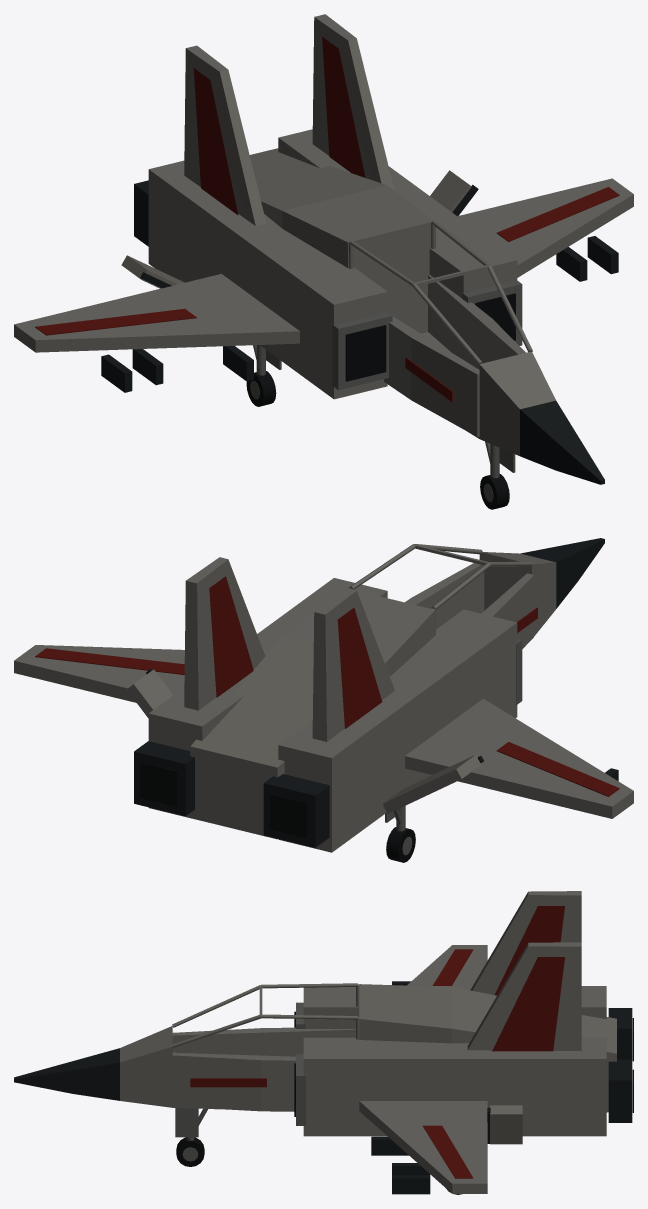
3 renders of one model, top to bottom at view 1: azimuth 30°, elevation 25°; view 2: azimuth 150°, elevation 25°; view 3: azimuth 270°, elevation 25°, orthographic. The views are drawn at different scales.
Parts seen in each view (by area): view 1: jet-b-painted, flap-right-painted, flap-left-painted, gear-wheel-nose-0-0-painted, gear-wheel-left-0-0-painted, landing-gear-nose-painted; view 2: jet-b-painted, flap-left-painted, flap-right-painted, gear-wheel-left-0-0-painted; view 3: jet-b-painted, flap-right-painted, landing-gear-nose-painted, gear-wheel-nose-0-0-painted.
Part boxes in pixels (x1,y1,x2,y2): jet-b-painted: [14, 14, 633, 484]; flap-right-painted: [430, 170, 478, 216]; flap-left-painted: [121, 255, 184, 288]; gear-wheel-nose-0-0-painted: [480, 474, 509, 509]; gear-wheel-left-0-0-painted: [246, 371, 276, 406]; landing-gear-nose-painted: [485, 441, 515, 478]; jet-b-painted: [14, 538, 633, 852]; flap-left-painted: [383, 754, 483, 813]; flap-right-painted: [126, 668, 173, 718]; gear-wheel-left-0-0-painted: [386, 827, 415, 862]; jet-b-painted: [14, 891, 633, 1194]; flap-right-painted: [487, 1105, 522, 1144]; landing-gear-nose-painted: [175, 1108, 207, 1140]; gear-wheel-nose-0-0-painted: [176, 1137, 204, 1166].
Bounding box in the file's own units: 63.28 × 30.39 × 69.47.
